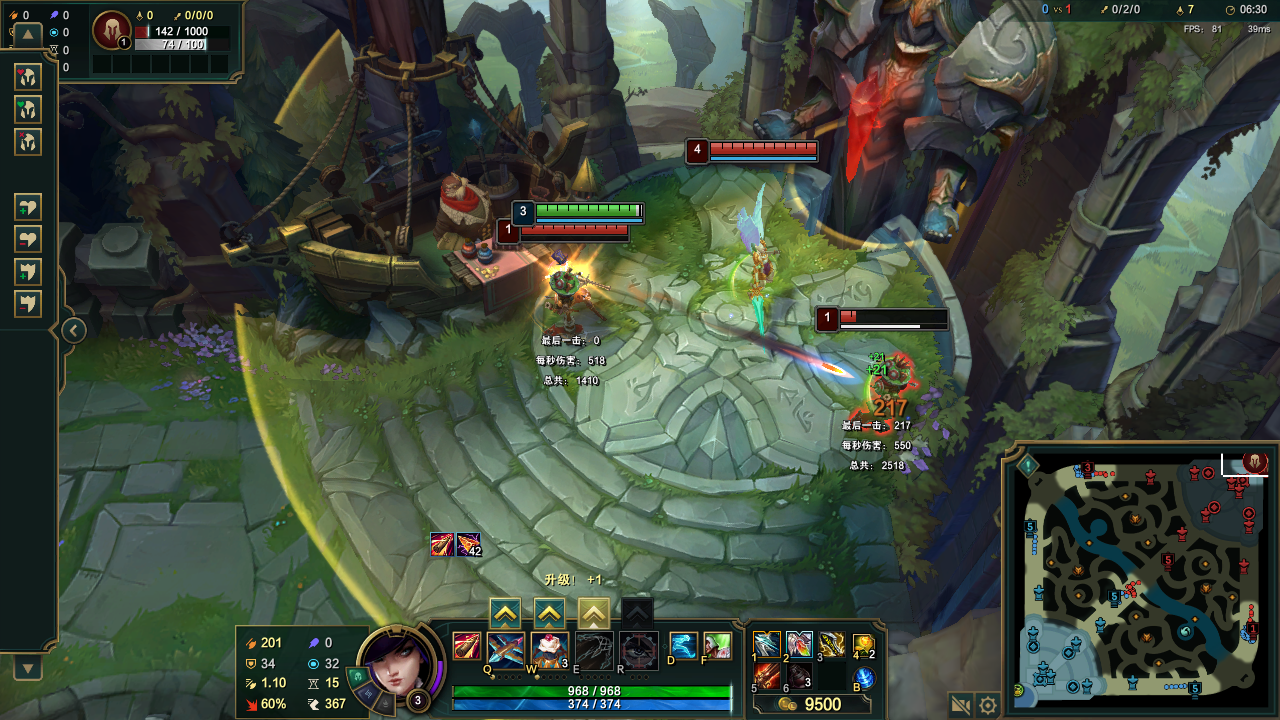DFYX: (838, 306, 952, 323), (709, 141, 825, 153), (521, 226, 633, 238)
